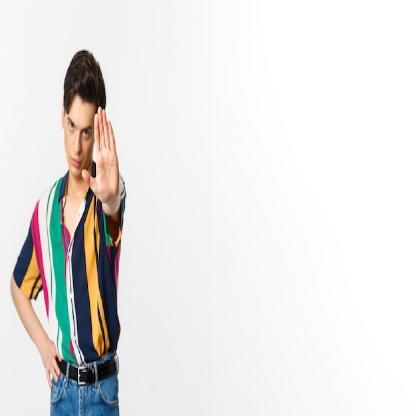stop: (80, 106, 124, 209)
